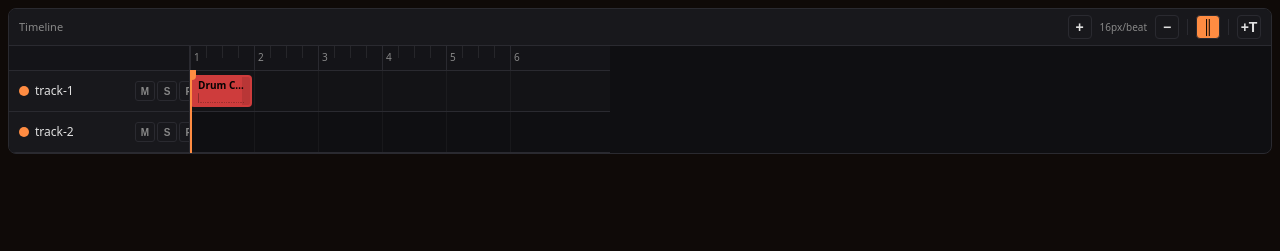
Timeline › duplicates a clip from the context menu
Right-click the element with test id "timeline-clip-clip-1": (221, 91) [190,75,252,107]
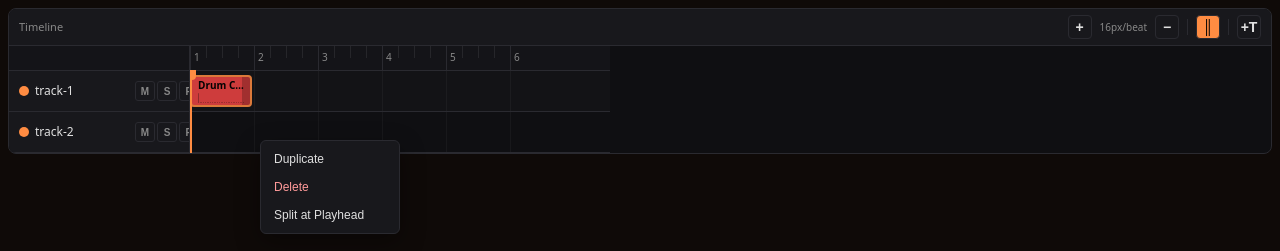
Click the menu item "Duplicate": (330, 159) [265,145,395,173]
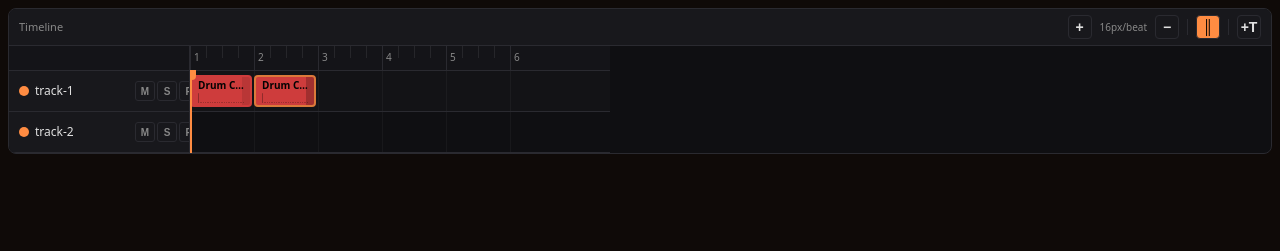
Now the text "Drum Clip" is shown 2 times, box [198,79,244,91]; [262,79,308,91]
